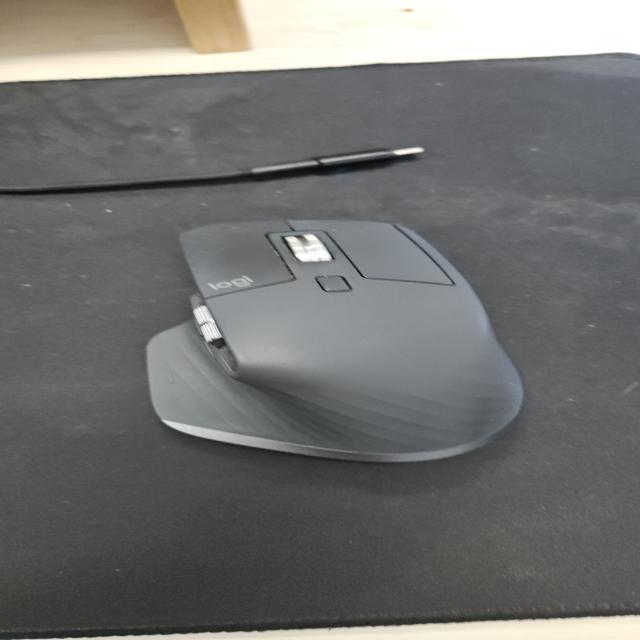Mouse: (142, 216, 528, 464)
